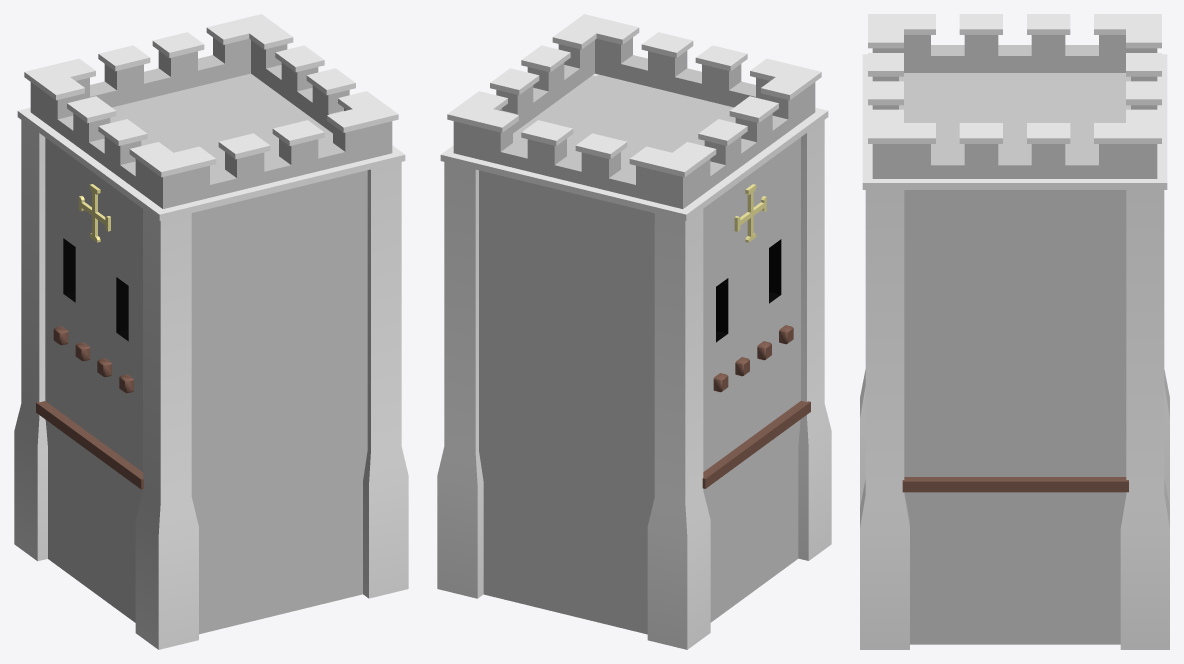
File: fortification_tower_big.FBX
3 views of the same model, side by side, from view 1: azimuth 30°, elevation 25°; view 2: azimuth 150°, elevation 25°; view 3: azimuth 270°, elevation 25° (orthographic). The views are drawn at different scales.
Visible parts, largest first — view 1: fortification_tower_big_LOD0; view 2: fortification_tower_big_LOD0; view 3: fortification_tower_big_LOD0.
Part boxes in pixels (x1,y1,x2,y2): fortification_tower_big_LOD0: (14, 14, 408, 649); fortification_tower_big_LOD0: (437, 14, 831, 649); fortification_tower_big_LOD0: (860, 14, 1169, 649).
Size of what is drawn, in the model's own units: 1167 by 2112 by 1167.
